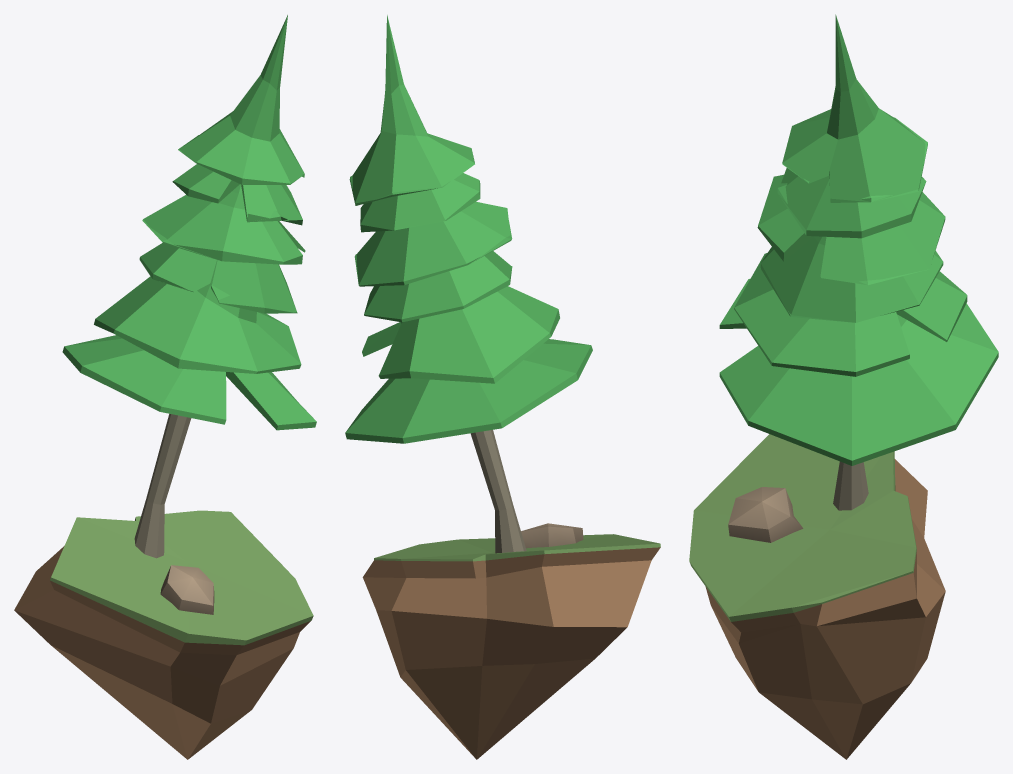
File: SM_MiniIsland01.fbx
3 views of the same model, side by side, from view 1: azimuth 30°, elevation 25°; view 2: azimuth 150°, elevation 25°; view 3: azimuth 270°, elevation 25° (orthographic). The views are drawn at different scales.
Parts seen in each view (by area): view 1: islandPine.001; view 2: islandPine.001; view 3: islandPine.001.
Part boxes in pixels (x1=…): islandPine.001: x1=14, y1=15, x2=316, y2=759; islandPine.001: x1=345, y1=15, x2=660, y2=759; islandPine.001: x1=689, y1=14, x2=998, y2=759.
Size of the model in its own units: 542 by 1342 by 472.
